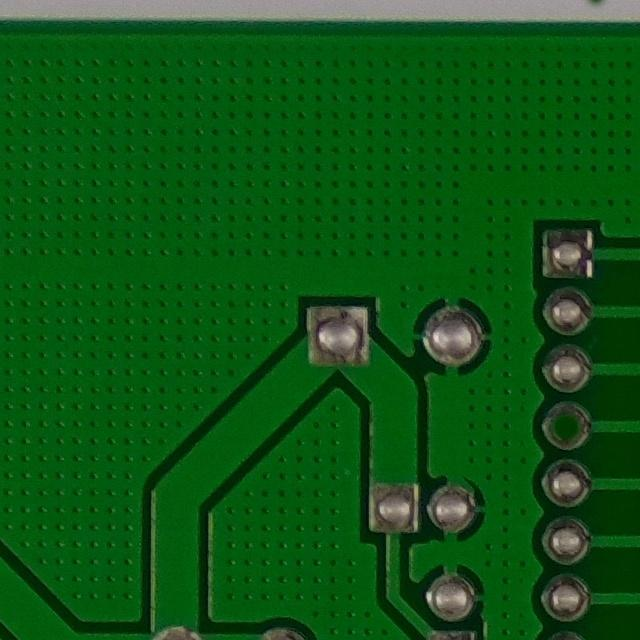missing_hole: (544, 402, 593, 454)
